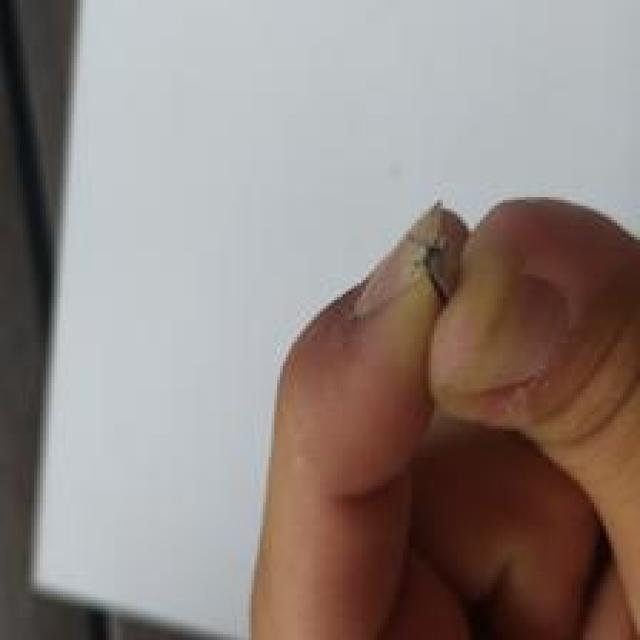Aedes albopictus: (408, 233, 452, 304)
